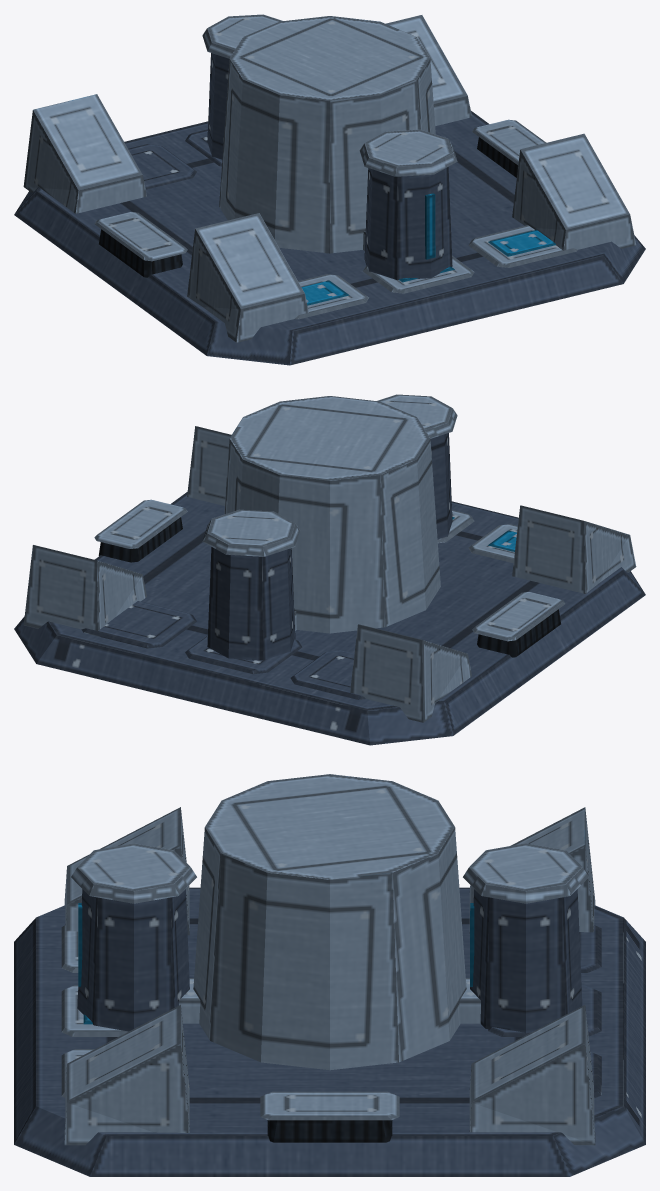
The model's file is building-reactor.fbx.
3 renders of one model, top to bottom at view 1: azimuth 30°, elevation 25°; view 2: azimuth 150°, elevation 25°; view 3: azimuth 270°, elevation 25°, orthographic. The views are drawn at different scales.
Visible parts, largest first — view 1: building-reactor; view 2: building-reactor; view 3: building-reactor.
Boxes of the visible parts, left/top/right/bottom form: building-reactor: left=14, top=14, right=645, bottom=365; building-reactor: left=14, top=394, right=645, bottom=745; building-reactor: left=14, top=774, right=645, bottom=1176.
Bounding box in the file's own units: 2912 × 1100 × 2912.
1 material, 1 textured.
